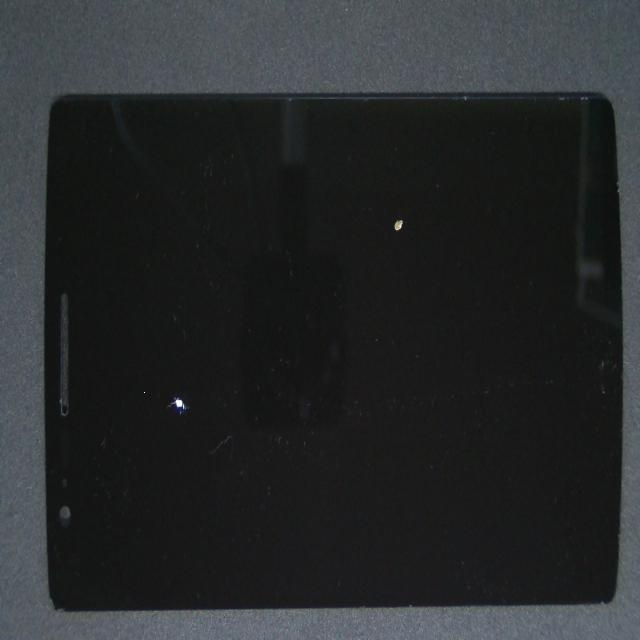stain: (198, 130, 595, 390), (88, 219, 266, 640)
